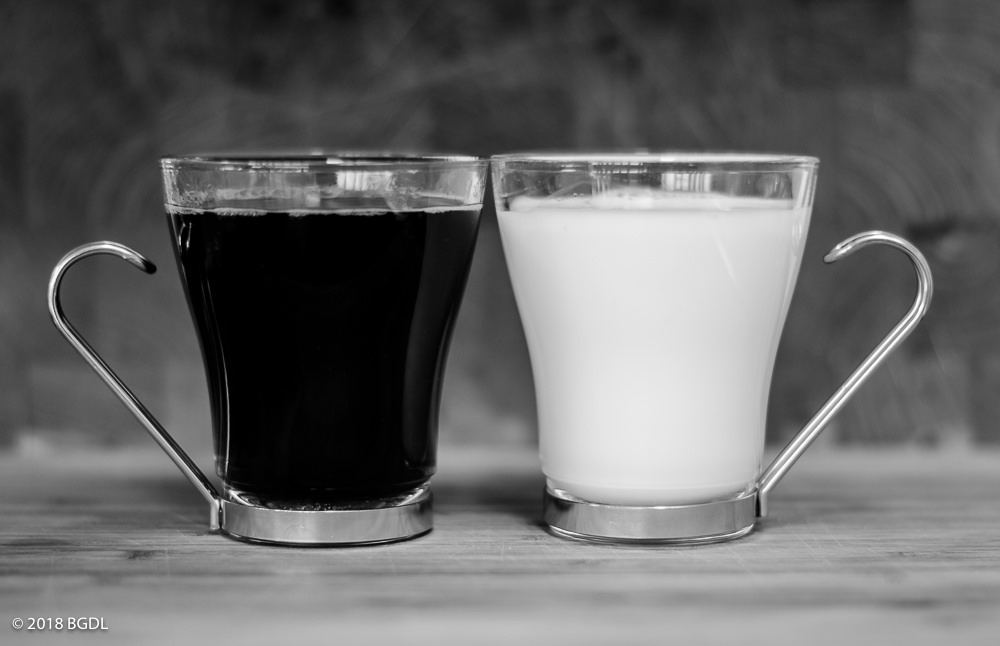glass of milk: (512, 152, 923, 547)
